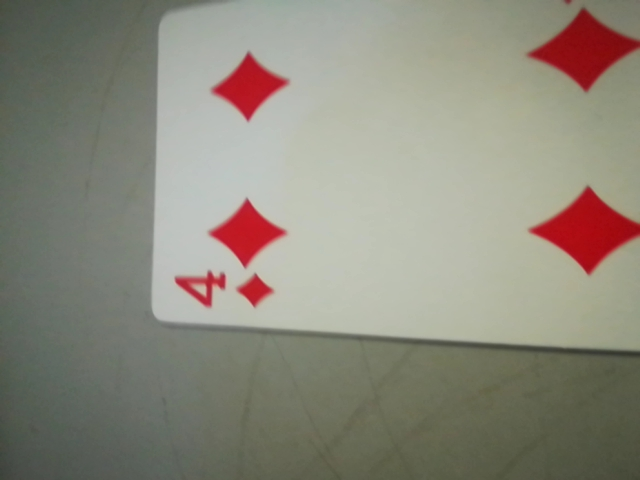fk 4: (159, 249, 289, 322)
